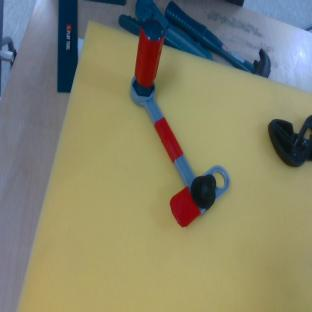pass: (97, 14, 240, 229)
